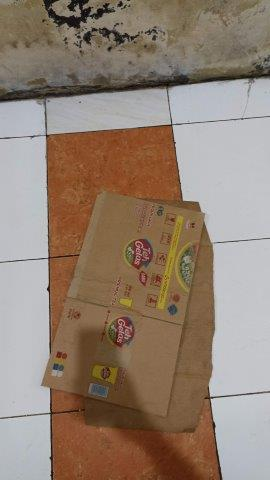kardus: (50, 198, 206, 428)
